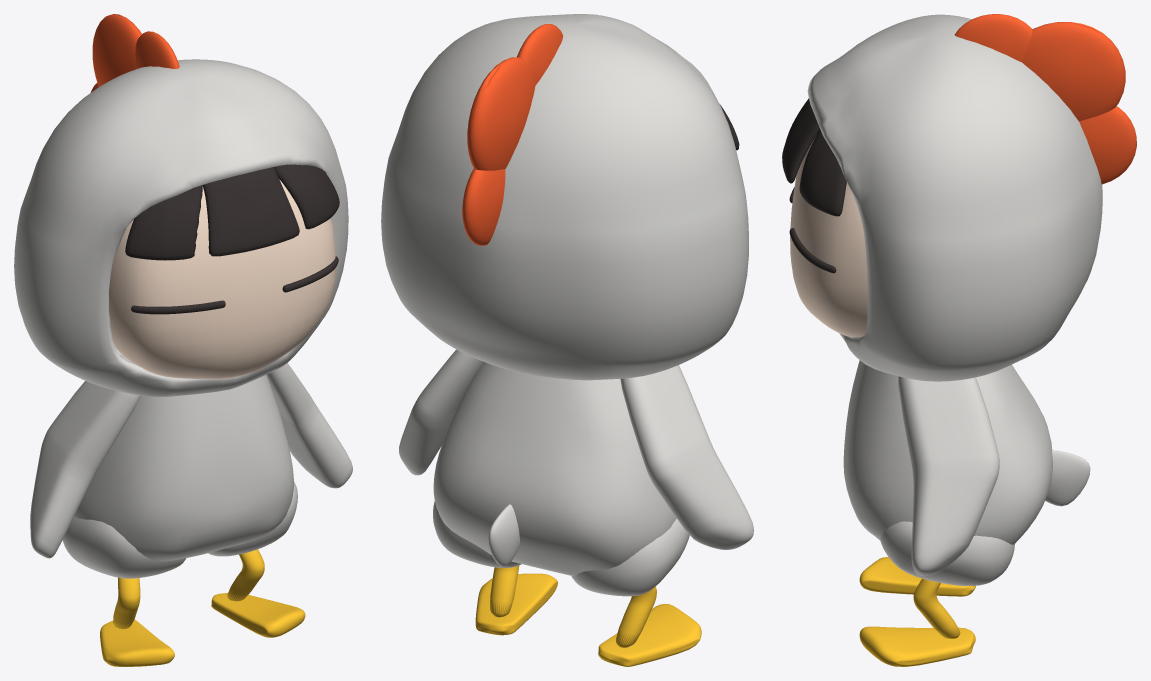
The model's file is chicken.glb.
The picture shows the model from 3 angles, left to right: view 1: azimuth 30°, elevation 25°; view 2: azimuth 150°, elevation 25°; view 3: azimuth 270°, elevation 25°; orthographic projection. The views are drawn at different scales.
Visible parts, largest first — view 1: Head, Body, Wing_L, Wing_R, Leg_R, Leg_L; view 2: Head, Body, Wing_L, Leg_L, Wing_R, Leg_R; view 3: Head, Body, Wing_R, Leg_R, Leg_L.
Part boxes in pixels (x1,y1,x2,y2): Head: (14,14,348,397); Body: (62,374,297,578); Wing_L: (30,355,140,558); Wing_R: (266,363,352,488); Leg_R: (211,549,305,637); Leg_L: (100,577,174,666); Head: (381,14,748,380); Body: (433,362,689,596); Wing_L: (620,365,753,549); Leg_L: (598,586,701,666); Wing_R: (399,349,483,475); Leg_R: (475,565,557,635); Head: (782,14,1136,381); Body: (843,360,1090,585); Wing_R: (898,376,999,576); Leg_R: (859,578,975,666); Leg_L: (859,557,975,596).
Size of the model in its own units: 0.8219 by 1.42 by 0.7542.
